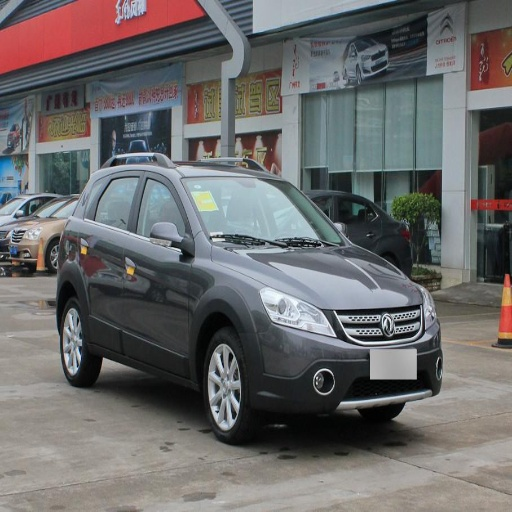front_bumper: (252, 304, 444, 413)
front_right_door: (123, 173, 194, 372)
front_right_light: (263, 287, 336, 336)
